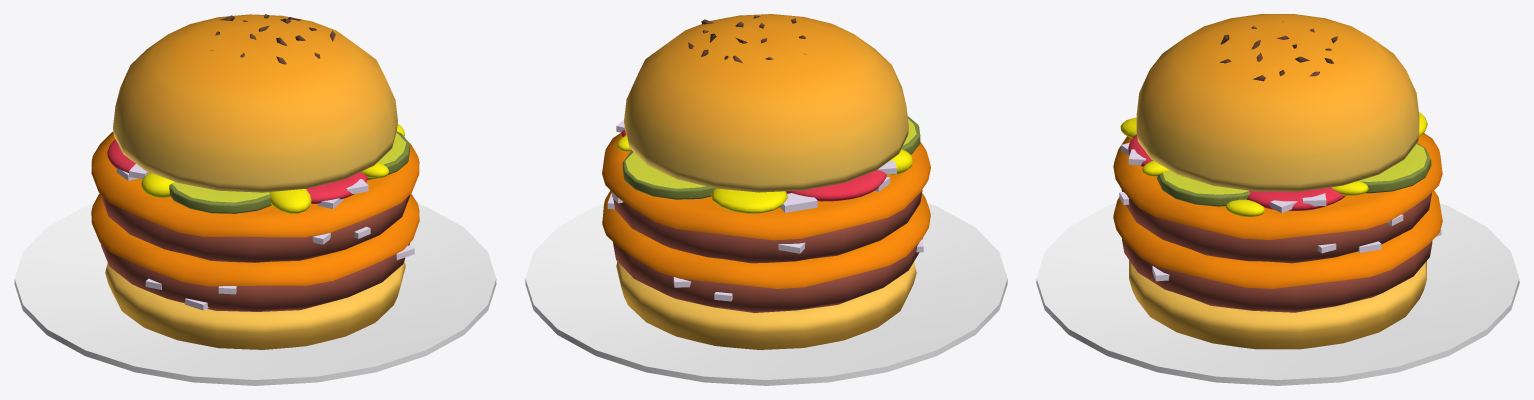
File: Double_Quarter_Pounder_Cheese.fbx
3 views of the same model, side by side, from view 1: azimuth 30°, elevation 25°; view 2: azimuth 150°, elevation 25°; view 3: azimuth 270°, elevation 25° (orthographic).
Visible parts, largest first — view 1: Double_Quarter_Pounder_Cheese; view 2: Double_Quarter_Pounder_Cheese; view 3: Double_Quarter_Pounder_Cheese.
Boxes of the visible parts, x1,y1,x2,y2 form: Double_Quarter_Pounder_Cheese: (14, 14, 496, 385); Double_Quarter_Pounder_Cheese: (525, 14, 1007, 385); Double_Quarter_Pounder_Cheese: (1036, 14, 1519, 385).
Bounding box in the file's own units: 146 × 95.05 × 146.
